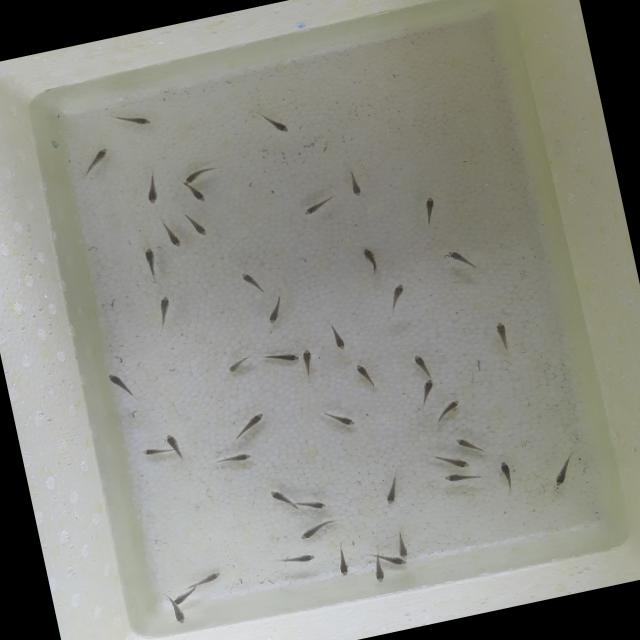fingerling: (222, 410, 270, 444), (76, 144, 116, 180), (319, 402, 363, 434), (546, 450, 578, 490), (443, 244, 481, 276), (110, 106, 154, 132), (432, 448, 472, 475), (382, 279, 412, 313), (494, 456, 520, 495), (211, 446, 257, 468), (262, 291, 290, 326), (258, 346, 300, 368), (292, 493, 332, 516), (163, 429, 190, 463), (380, 471, 406, 506), (331, 541, 354, 580), (260, 110, 292, 138), (430, 397, 463, 424), (152, 292, 176, 329), (140, 168, 164, 205), (352, 358, 378, 392), (277, 547, 317, 568), (157, 217, 182, 250), (141, 245, 163, 282), (265, 482, 296, 508), (366, 549, 388, 585), (238, 268, 266, 296), (455, 430, 485, 456), (418, 194, 440, 229), (358, 244, 382, 276), (440, 466, 478, 486), (342, 167, 365, 200), (296, 520, 330, 542), (492, 318, 514, 352), (104, 369, 130, 397), (180, 166, 213, 187), (184, 211, 208, 239), (187, 570, 224, 588), (296, 346, 318, 375), (411, 350, 433, 378), (301, 198, 334, 216), (168, 606, 194, 628), (222, 356, 250, 376), (394, 528, 412, 559), (418, 377, 440, 402), (184, 184, 208, 206), (139, 443, 167, 459), (328, 323, 344, 349), (388, 554, 411, 569)
